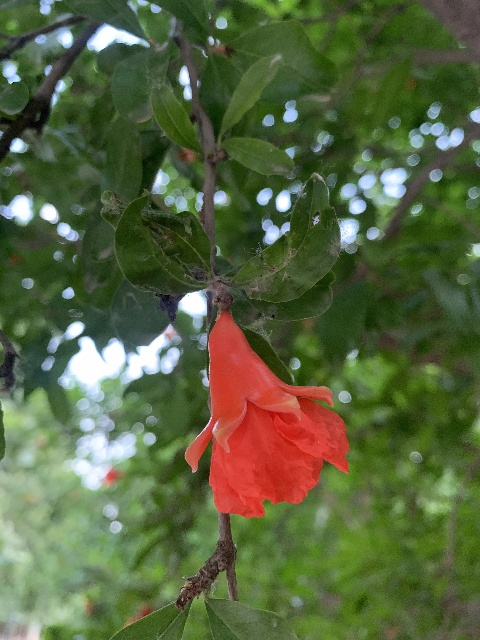flower: (185, 309, 349, 519)
